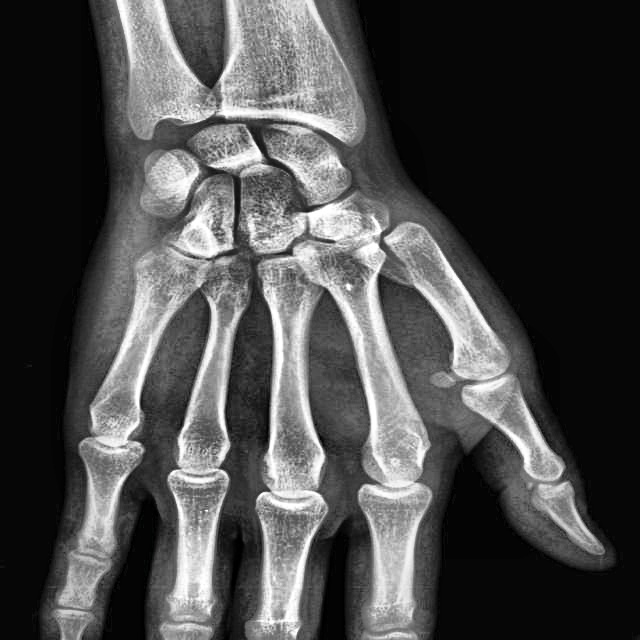Oblique: (354, 224, 443, 290)
